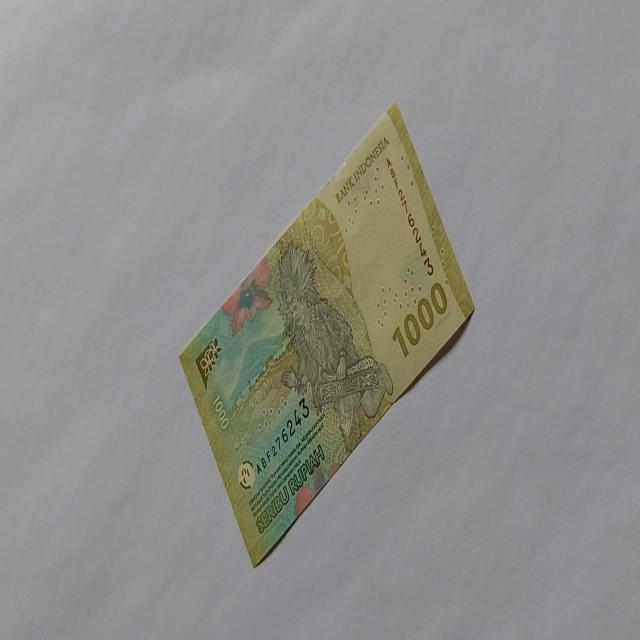seribu rupiah kertas: (177, 100, 475, 568)
